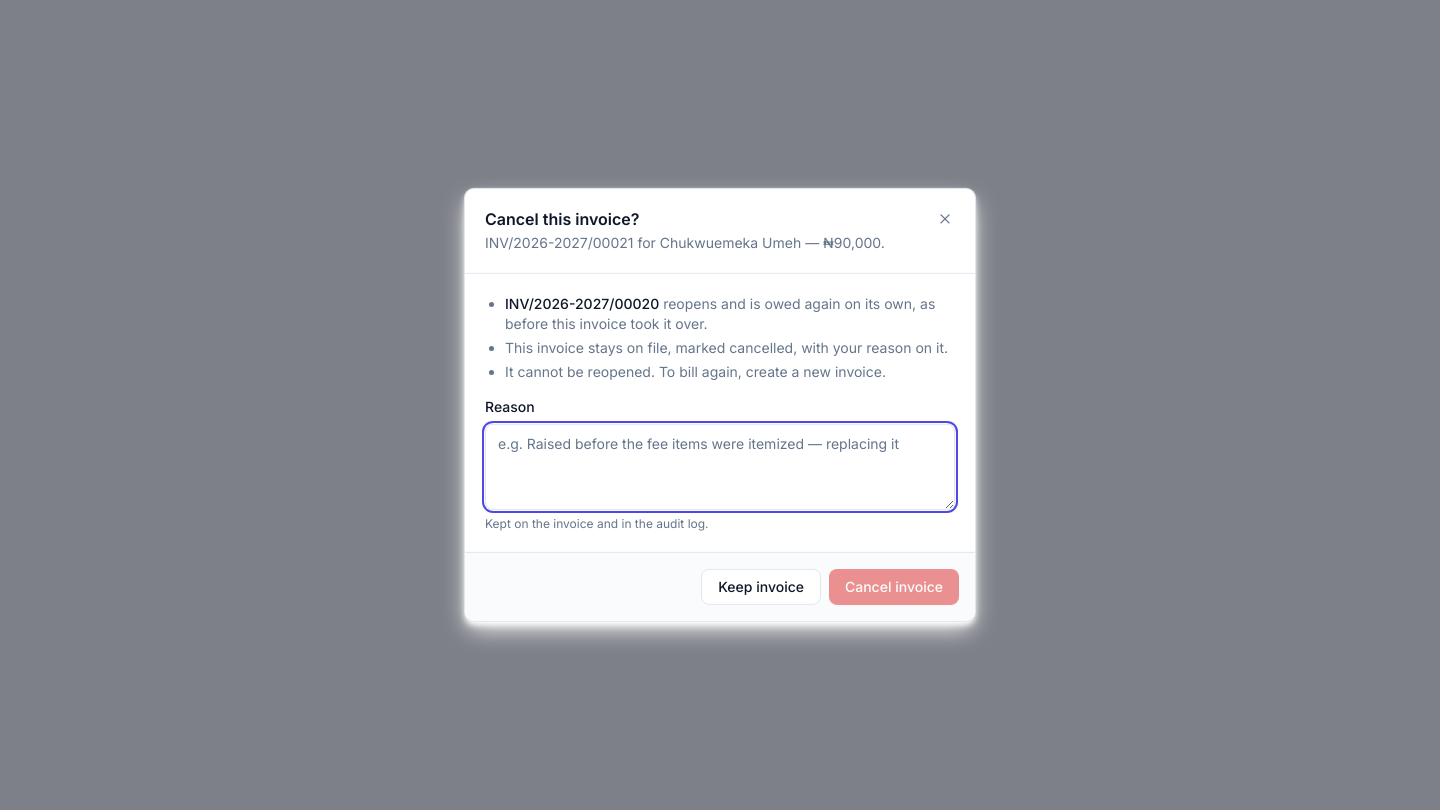
Test: CancelInvoiceDialog › will not cancel until a reason has been given
The width and height of the screenshot is (1440, 810).
Check: the button "Cancel invoice" is disabled, box [829, 569, 959, 605]
In the text box labelled "Reason": (720, 467) [485, 424, 955, 510], type "ab"
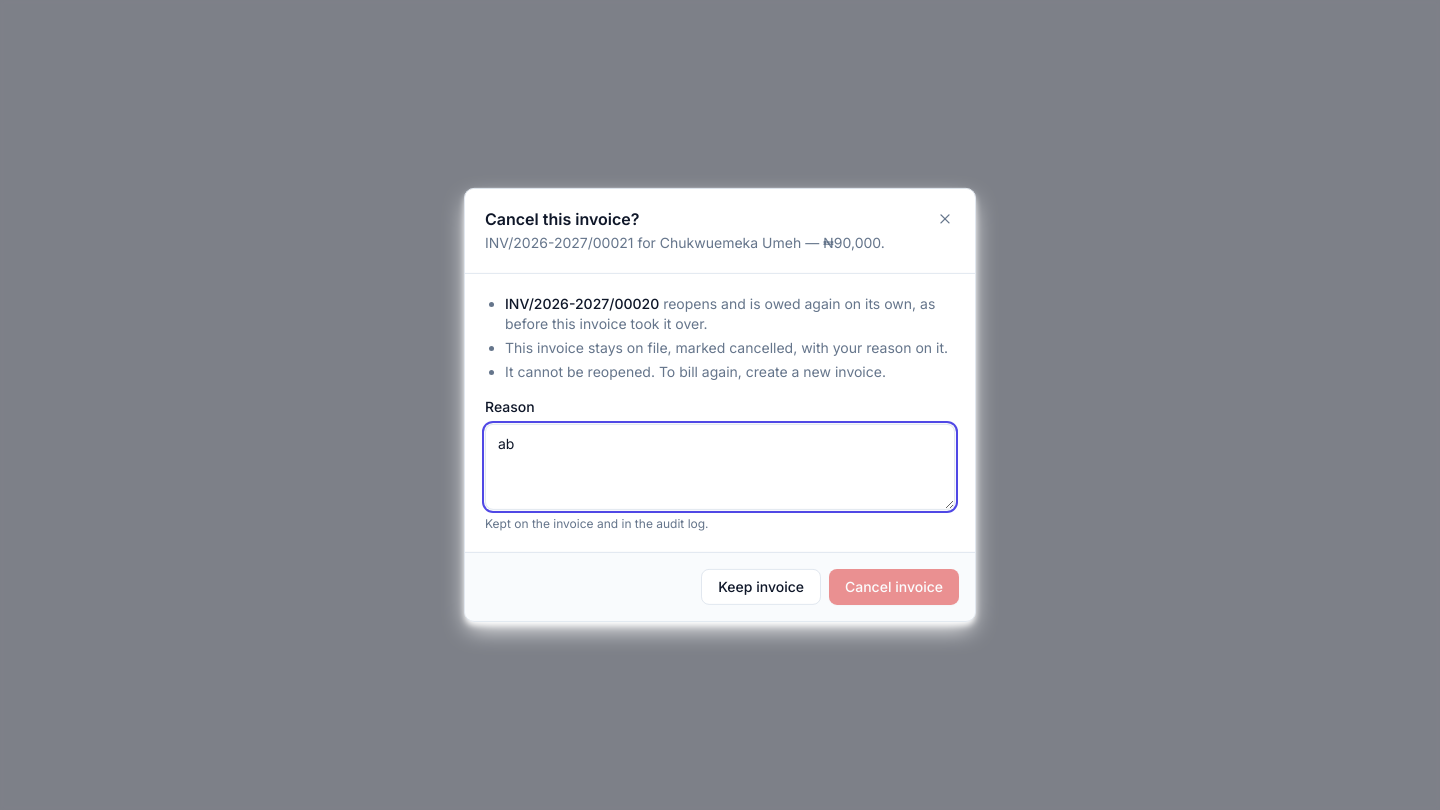
Check: the button "Cancel invoice" is disabled, box [829, 569, 959, 605]
In the text box labelled "Reason": (720, 467) [485, 424, 955, 510], type "c"
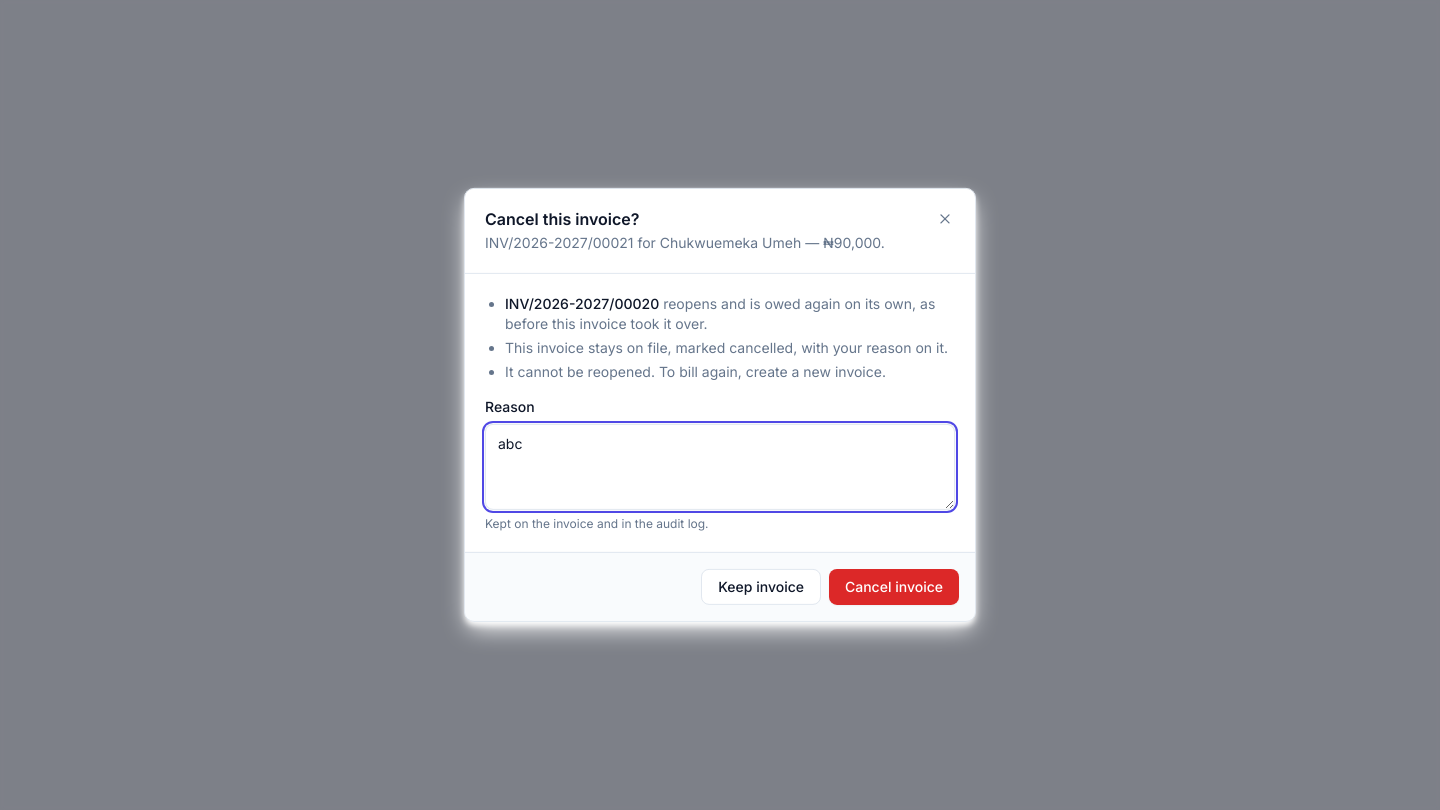
Check: the button "Cancel invoice" is enabled, box [829, 569, 959, 605]
